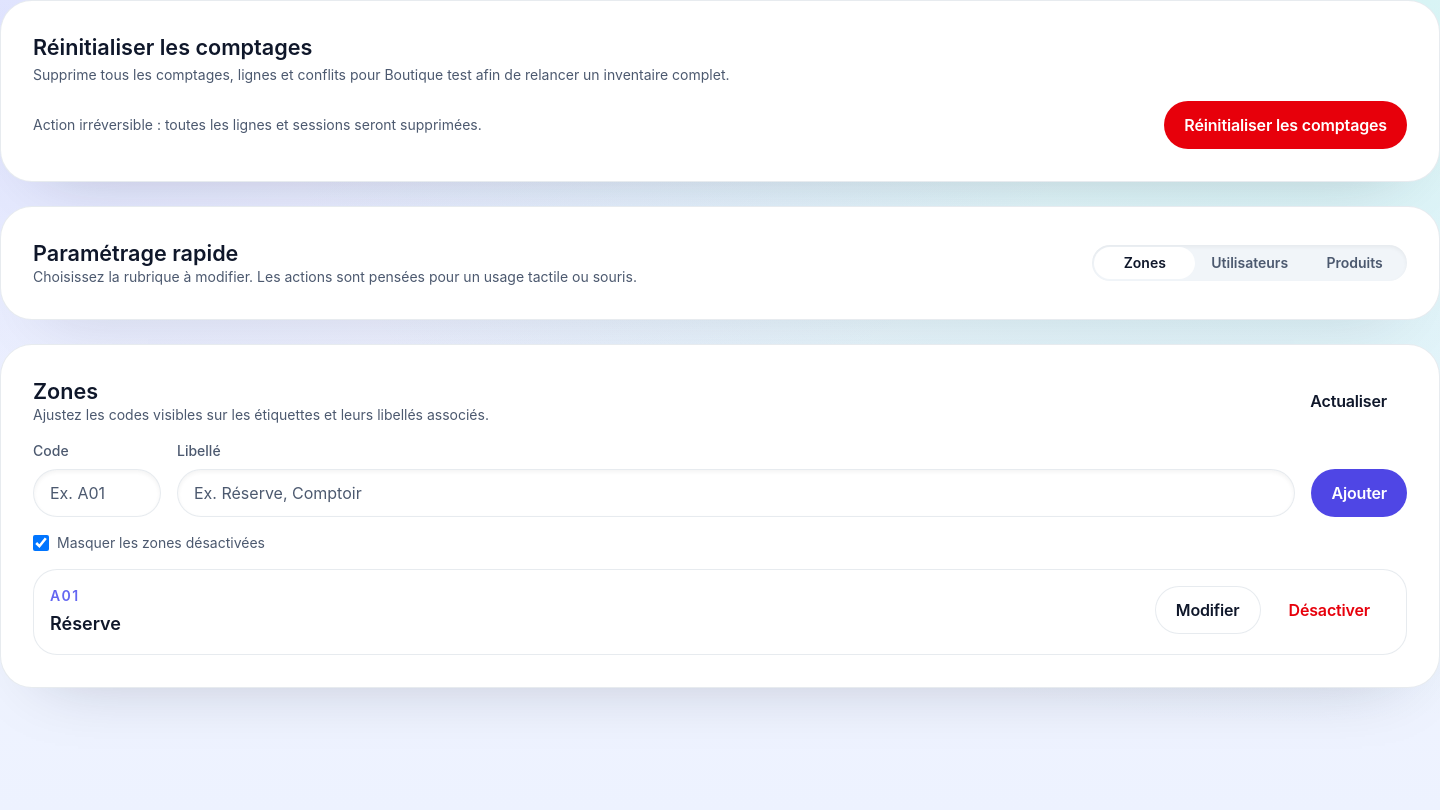
AdminLocationsPage › crée une nouvelle zone
The image size is (1440, 810).
Type "b02" into the field labelled "Code" at (97, 493), box [33,469,161,517]
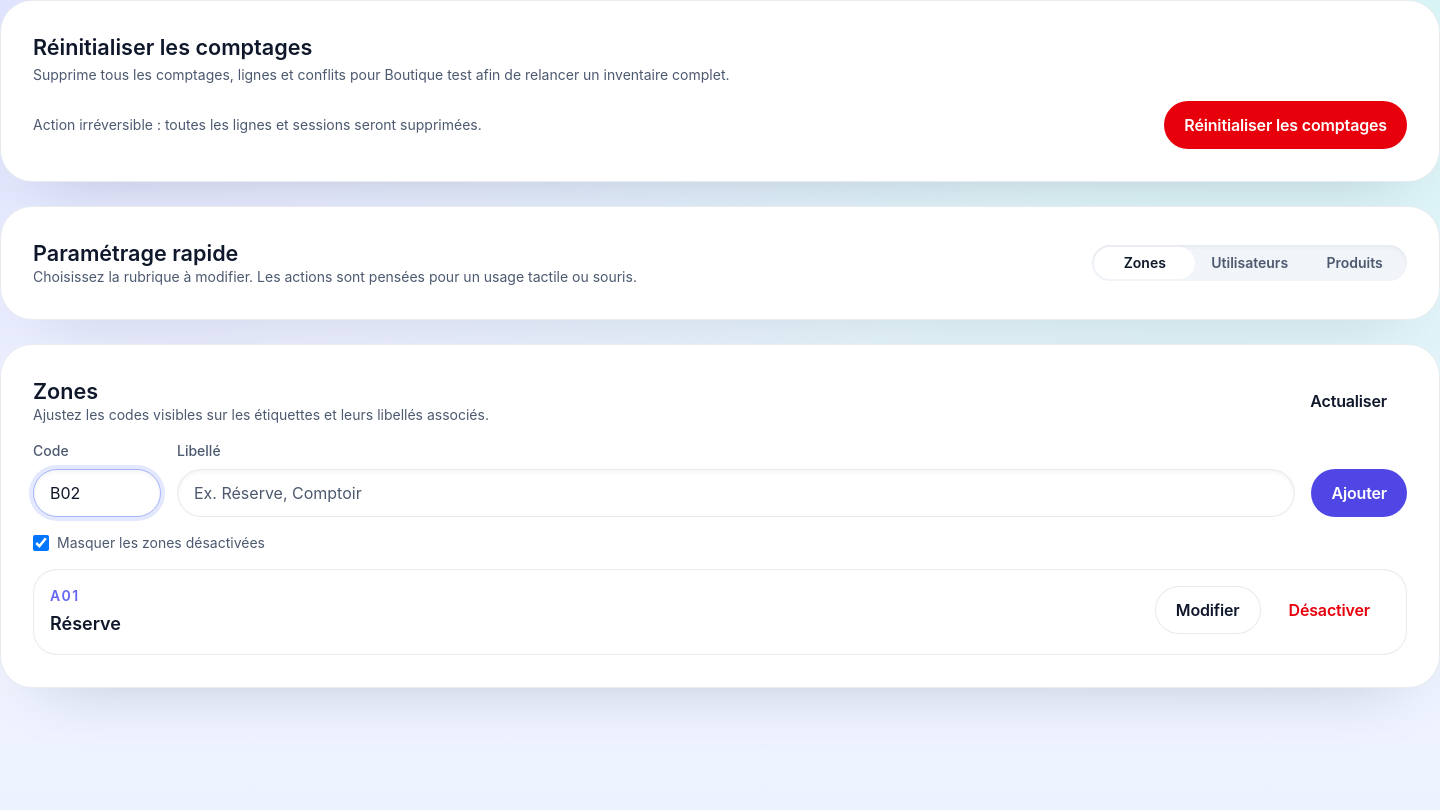
Type "Comptoir" into the field labelled "Libellé" at (736, 493), box [177,469,1295,517]
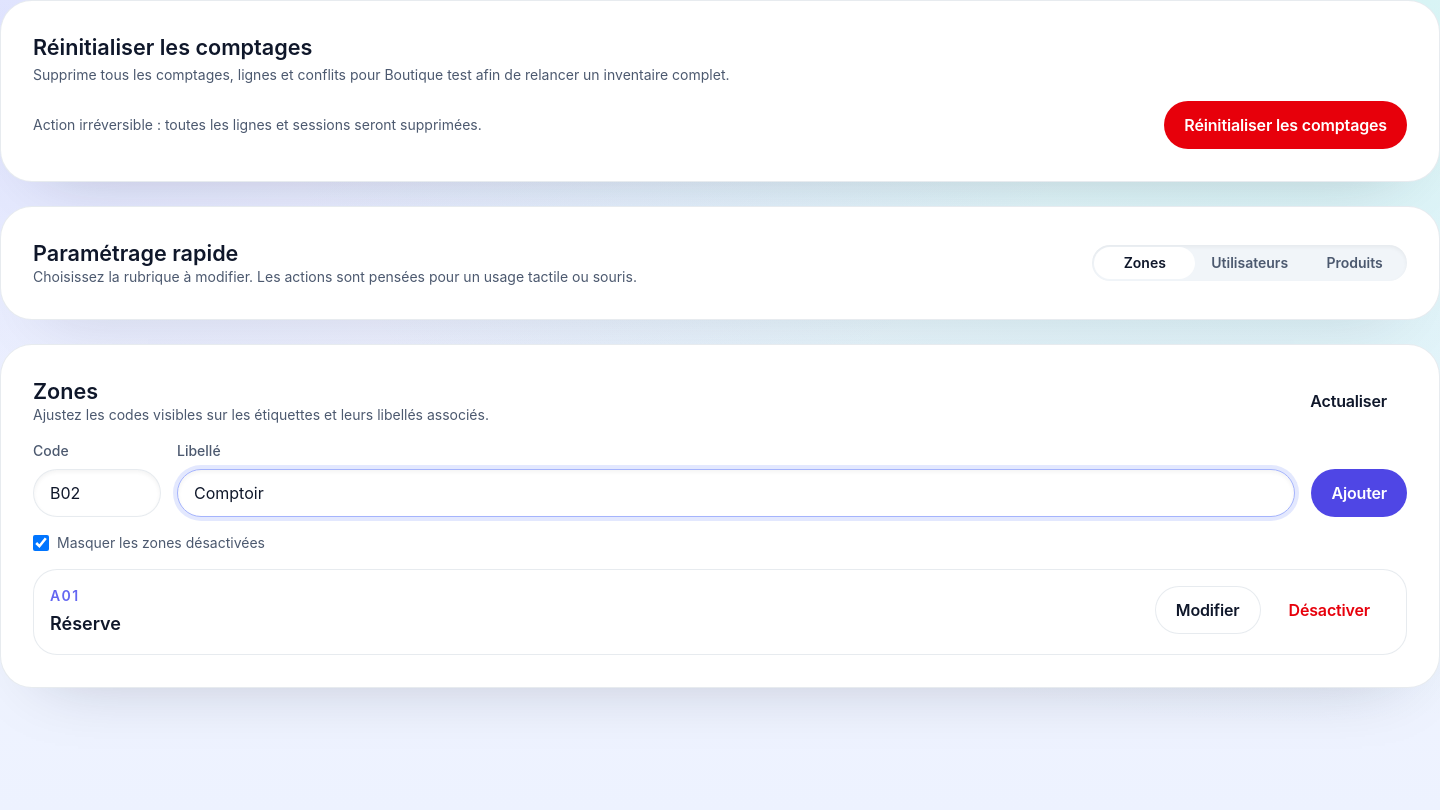
Expected: the form labelled "Code" is shown, [33,441,1407,517]
Click the button "Ajouter" at (1359, 493), box [1311,469,1407,517]
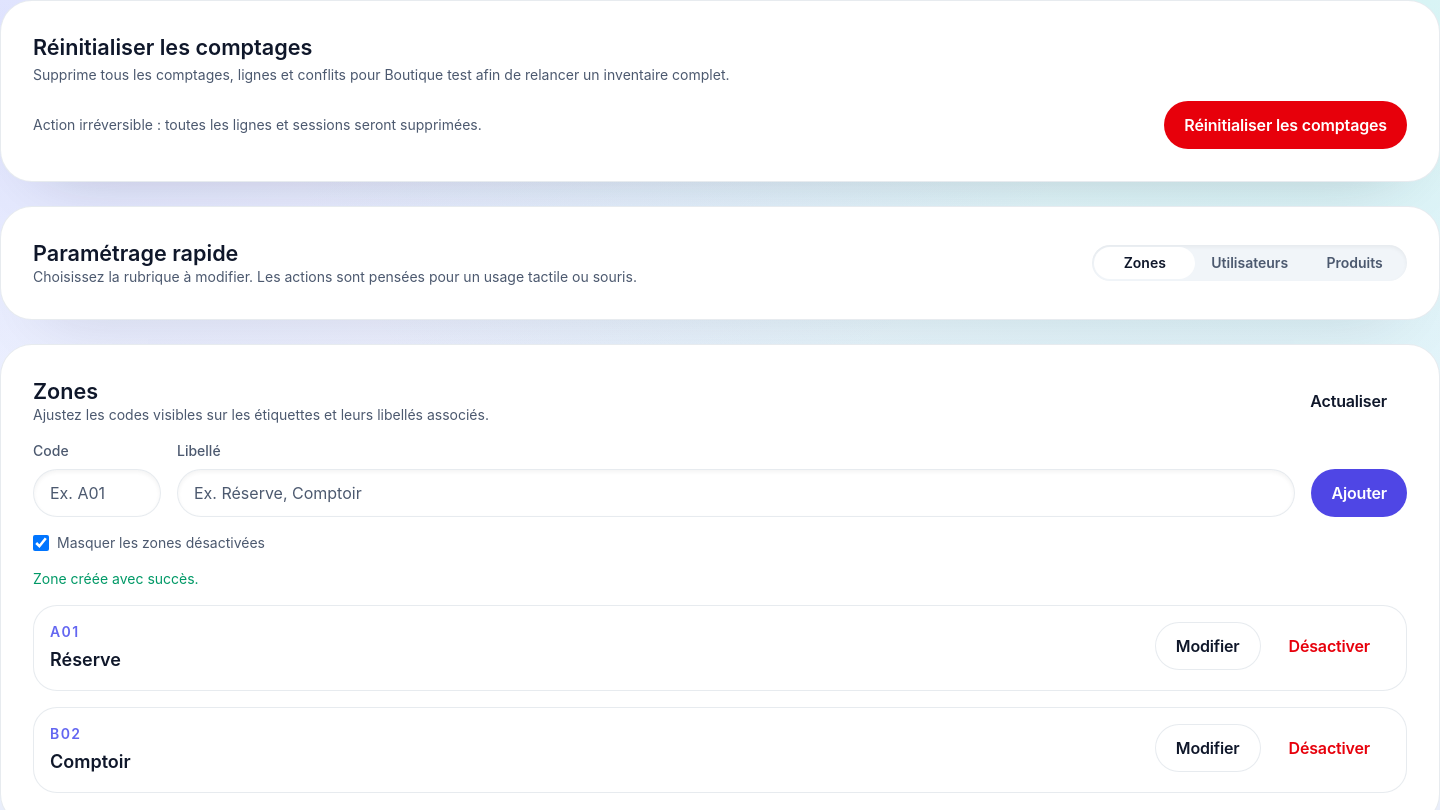
Result: the text "Zone créée avec succès." is shown at [33,570,199,587]
Result: the text "Comptoir" is shown at [50,748,131,776]
